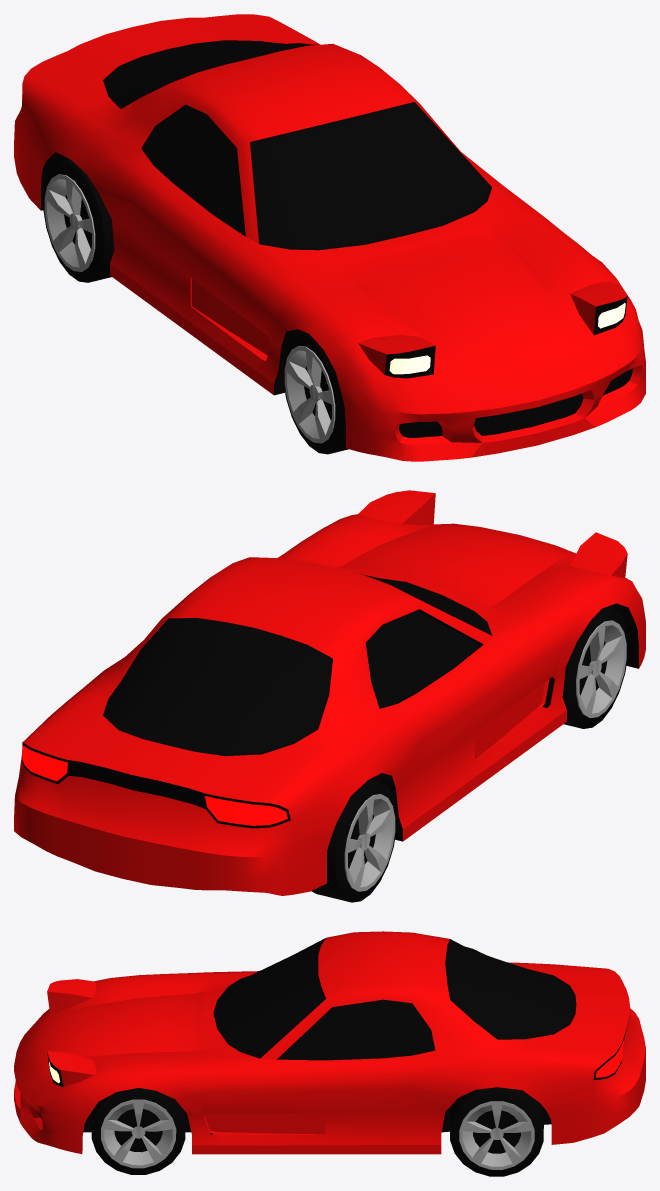
3 renders of one model, top to bottom at view 1: azimuth 30°, elevation 25°; view 2: azimuth 150°, elevation 25°; view 3: azimuth 270°, elevation 25°, orthographic. The views are drawn at different scales.
Parts seen in each view (by area): view 1: RX-7, BR_Wheel, FR_Wheel; view 2: RX-7, BR_Wheel, FR_Wheel; view 3: RX-7, BL_Wheel, FL_Wheel.
Part boxes in pixels (x1,y1,x2,y2): RX-7: (14,14,645,461); BR_Wheel: (43,159,114,282); FR_Wheel: (283,332,348,454); RX-7: (14,490,645,895); BR_Wheel: (311,779,396,902); FR_Wheel: (562,606,628,728); RX-7: (14,931,645,1154); BL_Wheel: (450,1087,543,1176); FL_Wheel: (91,1088,185,1174).
Size of the model in its own units: 1.81 by 1.26 by 4.33.
